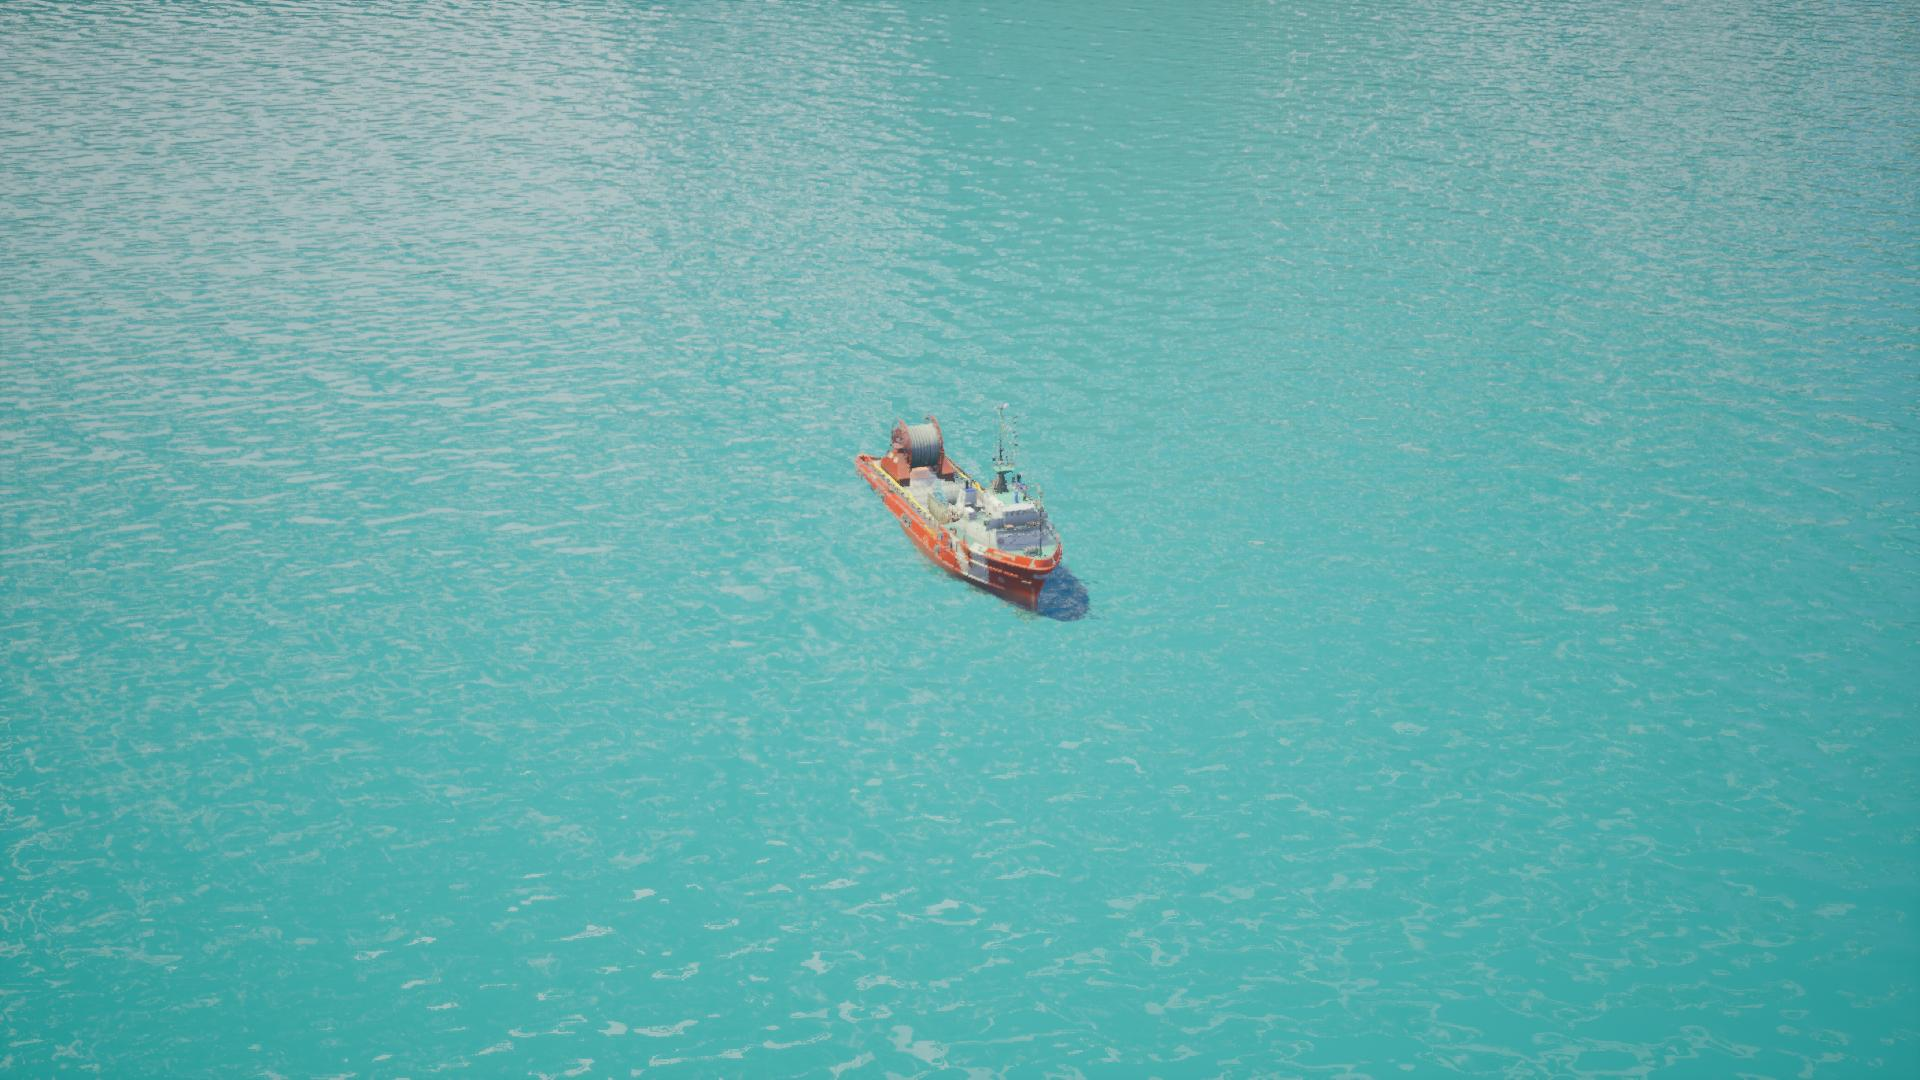Tug Boat: (832, 371, 1108, 646)
